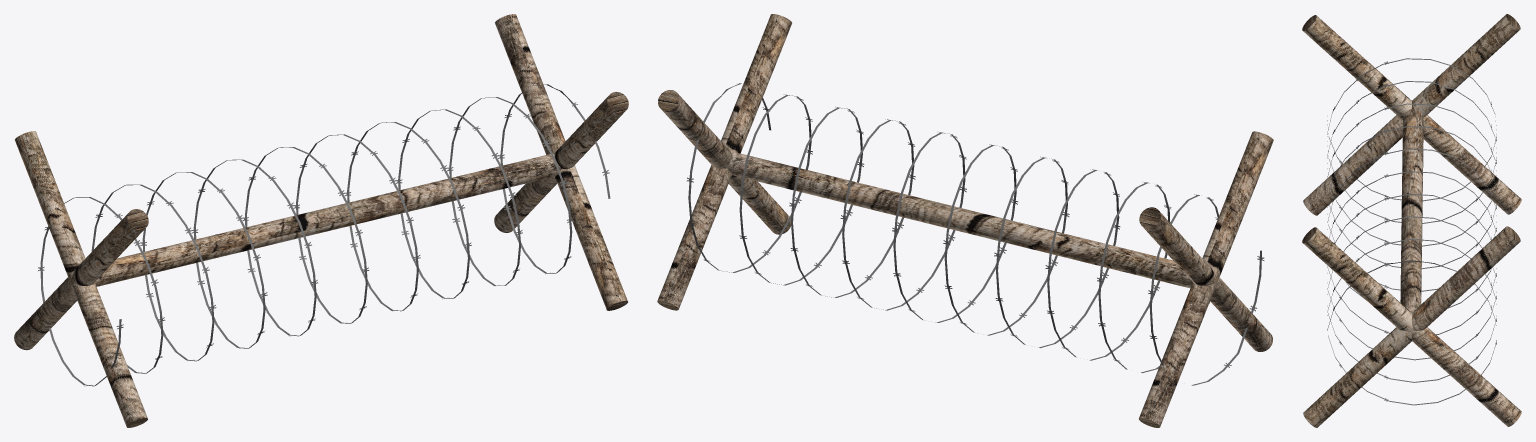
File: filo spinato.fbx
3 views of the same model, side by side, from view 1: azimuth 30°, elevation 25°; view 2: azimuth 150°, elevation 25°; view 3: azimuth 270°, elevation 25° (orthographic). The views are drawn at different scales.
Parts seen in each view (by area): view 1: legno.001, ferro; view 2: legno.001, ferro; view 3: legno.001, ferro.
Boxes of the visible parts, x1,y1,x2,y2 form: legno.001: (14,14,628,427); ferro: (38,84,610,386); legno.001: (657,14,1273,427); ferro: (687,83,1264,385); legno.001: (1302,14,1521,427); ferro: (1327,58,1496,405).
Bounding box in the file's own units: 296 × 707 × 296.
2 materials, 1 textured.
